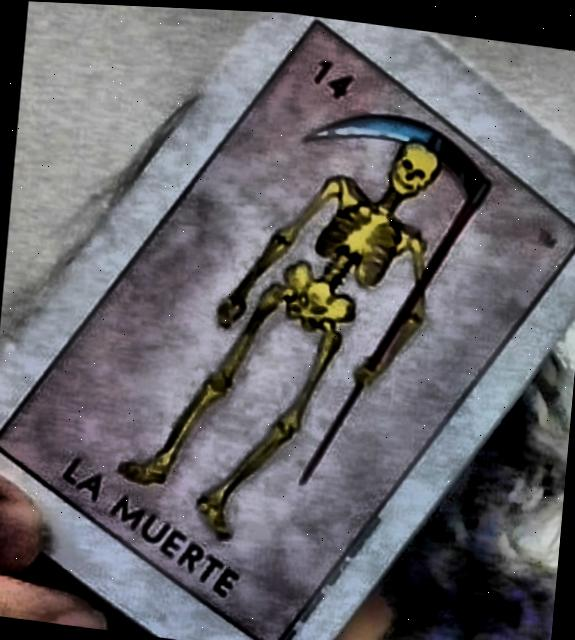La Muerte: (0, 18, 575, 640)
